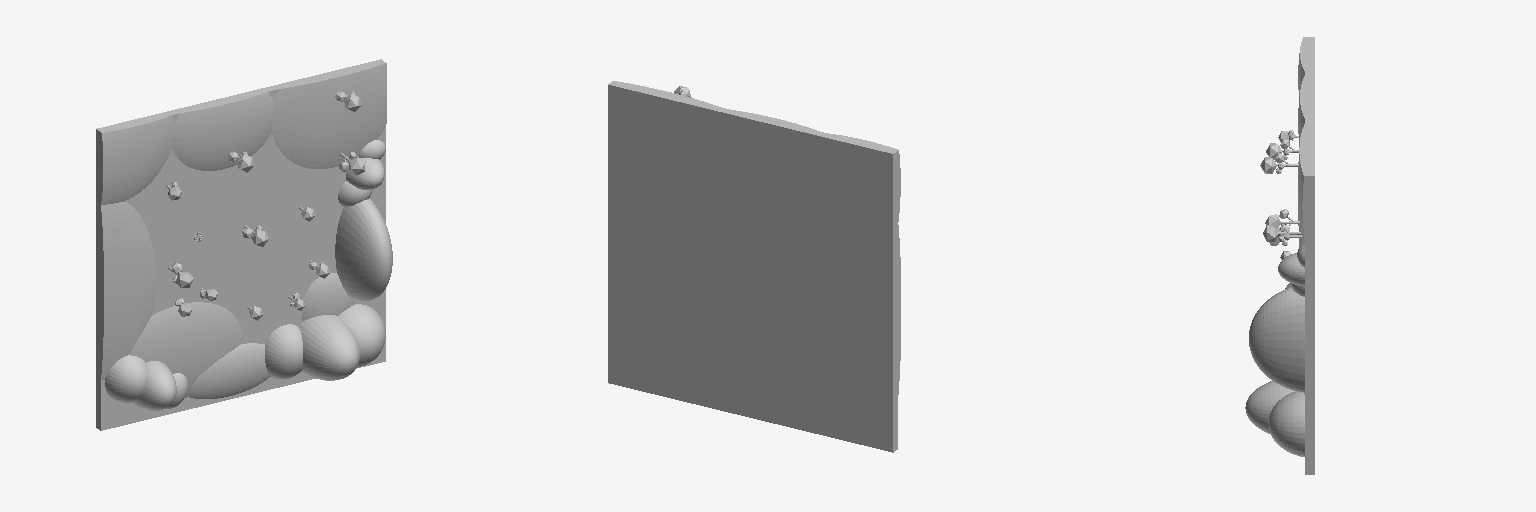
Rendered from forest.obj.
3 views of the same model, side by side, from view 1: azimuth 30°, elevation 25°; view 2: azimuth 150°, elevation 25°; view 3: azimuth 270°, elevation 25° (orthographic).
Parts seen in each view (by area): view 1: obj_0; view 2: obj_0; view 3: obj_0.
Part boxes in pixels (x1,y1,x2,y2): obj_0: (96,59,392,430); obj_0: (608,81,900,452); obj_0: (1245,37,1314,474).
Size of the model in its own units: 100 by 99.99 by 21.